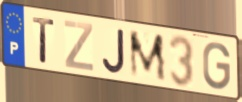3: (168, 33, 197, 90)
G: (201, 41, 232, 92)
J: (101, 27, 127, 76)
M: (127, 30, 168, 83)
T: (31, 15, 56, 66)
Z: (63, 19, 95, 73)
